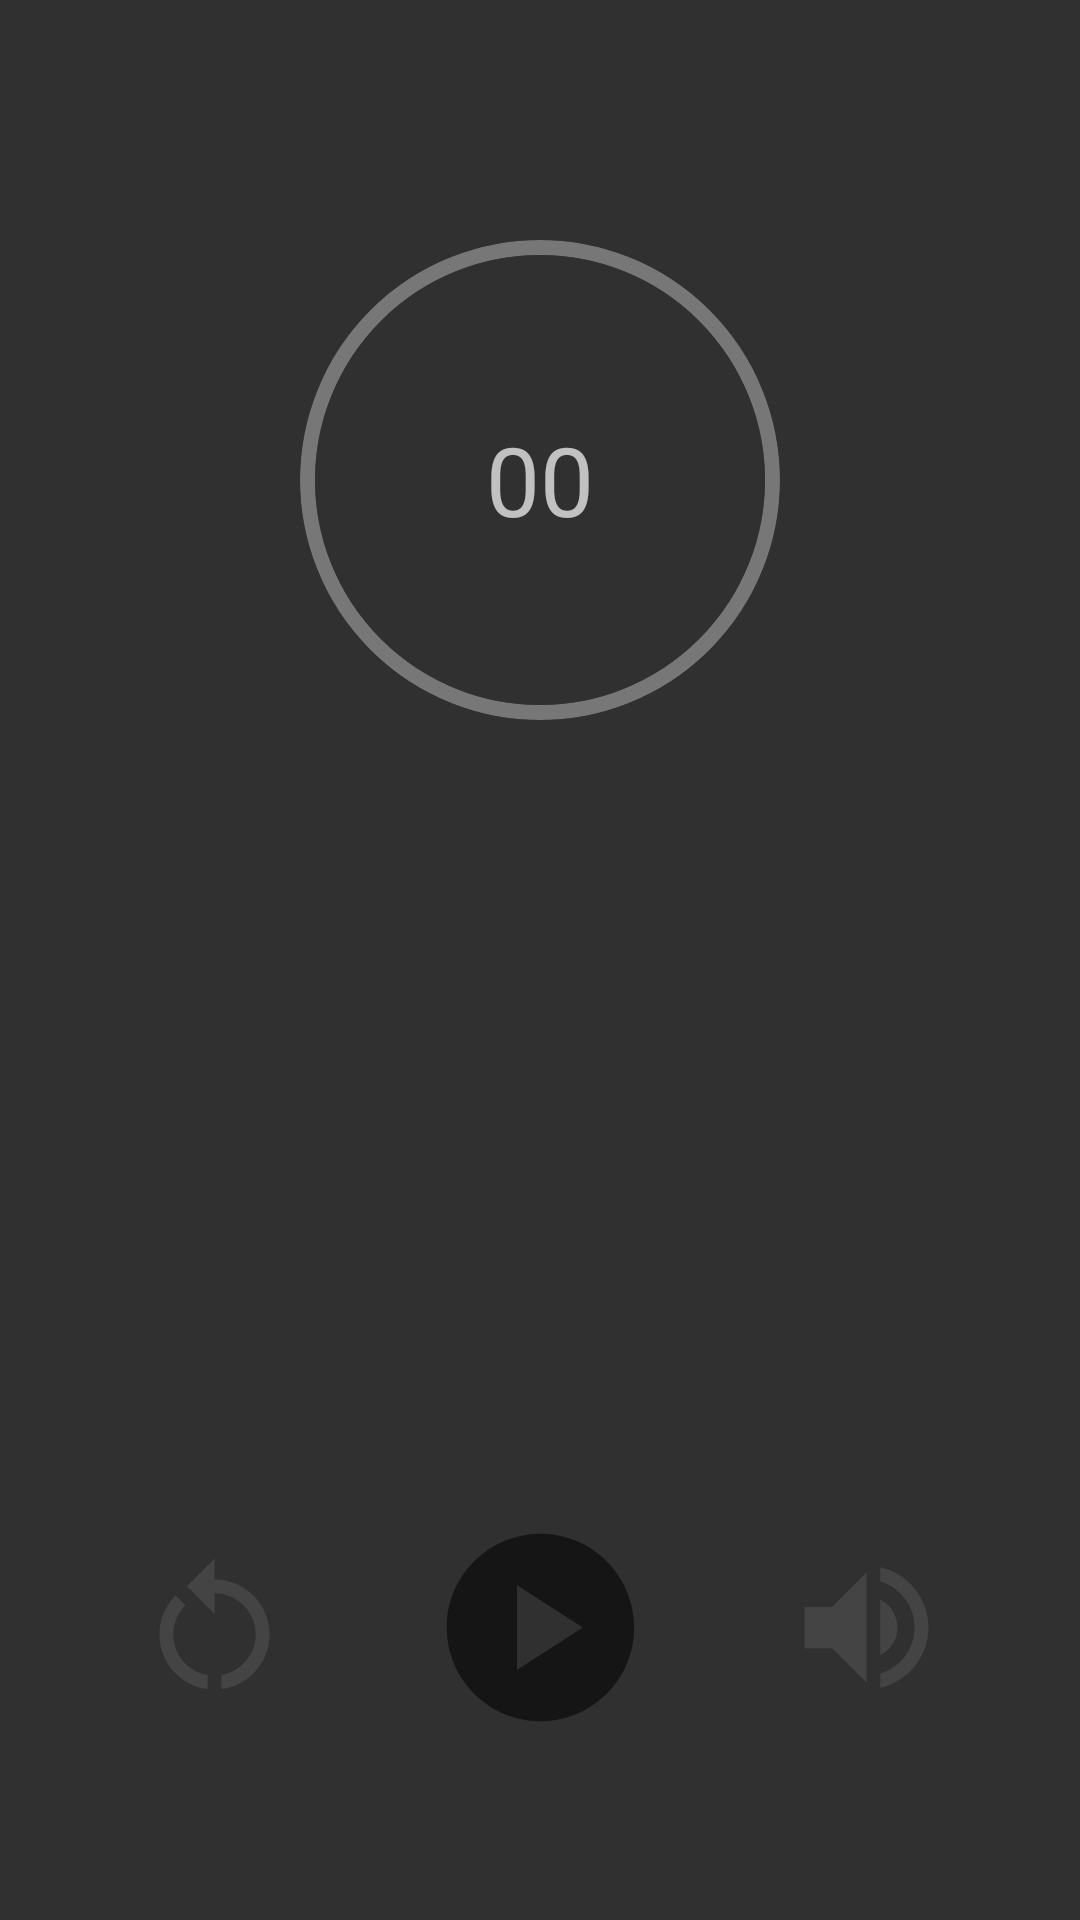

Icon click points for this 1080w x 1920h phone screenshot, format point (x, y):
play: point (540, 1627)
